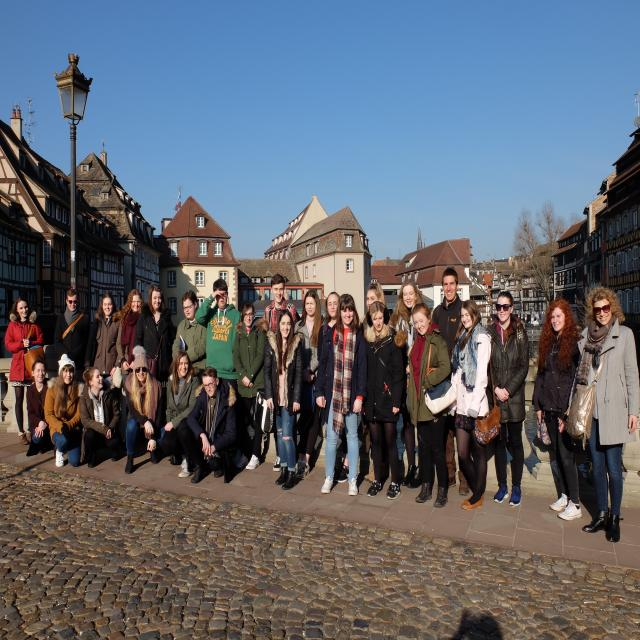body: (564, 286, 639, 543), (531, 297, 586, 522), (444, 299, 501, 512), (404, 302, 456, 508), (248, 417, 405, 485), (314, 293, 366, 498), (485, 290, 530, 507), (431, 266, 472, 496), (361, 301, 406, 500), (317, 290, 361, 484), (262, 308, 304, 491), (390, 279, 423, 489), (264, 274, 299, 472), (4, 295, 46, 446), (232, 300, 269, 470), (186, 366, 239, 484), (292, 288, 324, 480), (194, 277, 243, 395), (125, 345, 167, 474), (164, 348, 200, 481), (43, 353, 84, 469), (79, 365, 124, 469), (133, 285, 176, 384), (54, 287, 91, 383), (115, 288, 145, 398), (172, 288, 206, 372), (91, 292, 120, 384), (26, 358, 53, 456), (524, 389, 550, 466), (358, 282, 394, 335), (125, 444, 156, 474)
